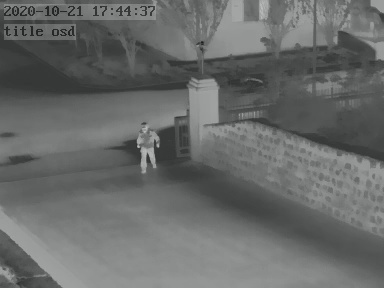person: (137, 120, 162, 172)
